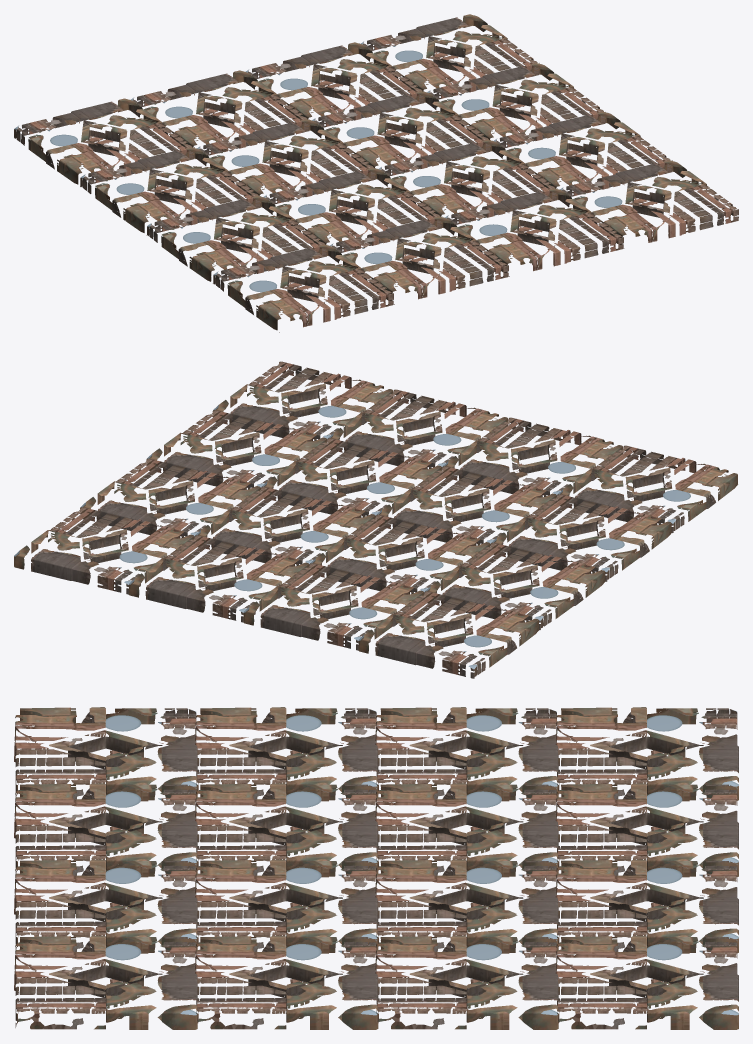
3 views of the same model, one above another, from view 1: azimuth 30°, elevation 25°; view 2: azimuth 150°, elevation 25°; view 3: azimuth 270°, elevation 25° (orthographic). The views are drawn at different scales.
Visible parts, largest first — view 1: SM_Smithing_Anvil_01_LOD0; view 2: SM_Smithing_Anvil_01_LOD0; view 3: SM_Smithing_Anvil_01_LOD0.
Part boxes in pixels (x1,y1,x2,y2): SM_Smithing_Anvil_01_LOD0: (14,14,738,332); SM_Smithing_Anvil_01_LOD0: (14,361,737,678); SM_Smithing_Anvil_01_LOD0: (14,707,738,1029).
Bounding box in the file's own units: 4.02 × 0.1104 × 4.02.
